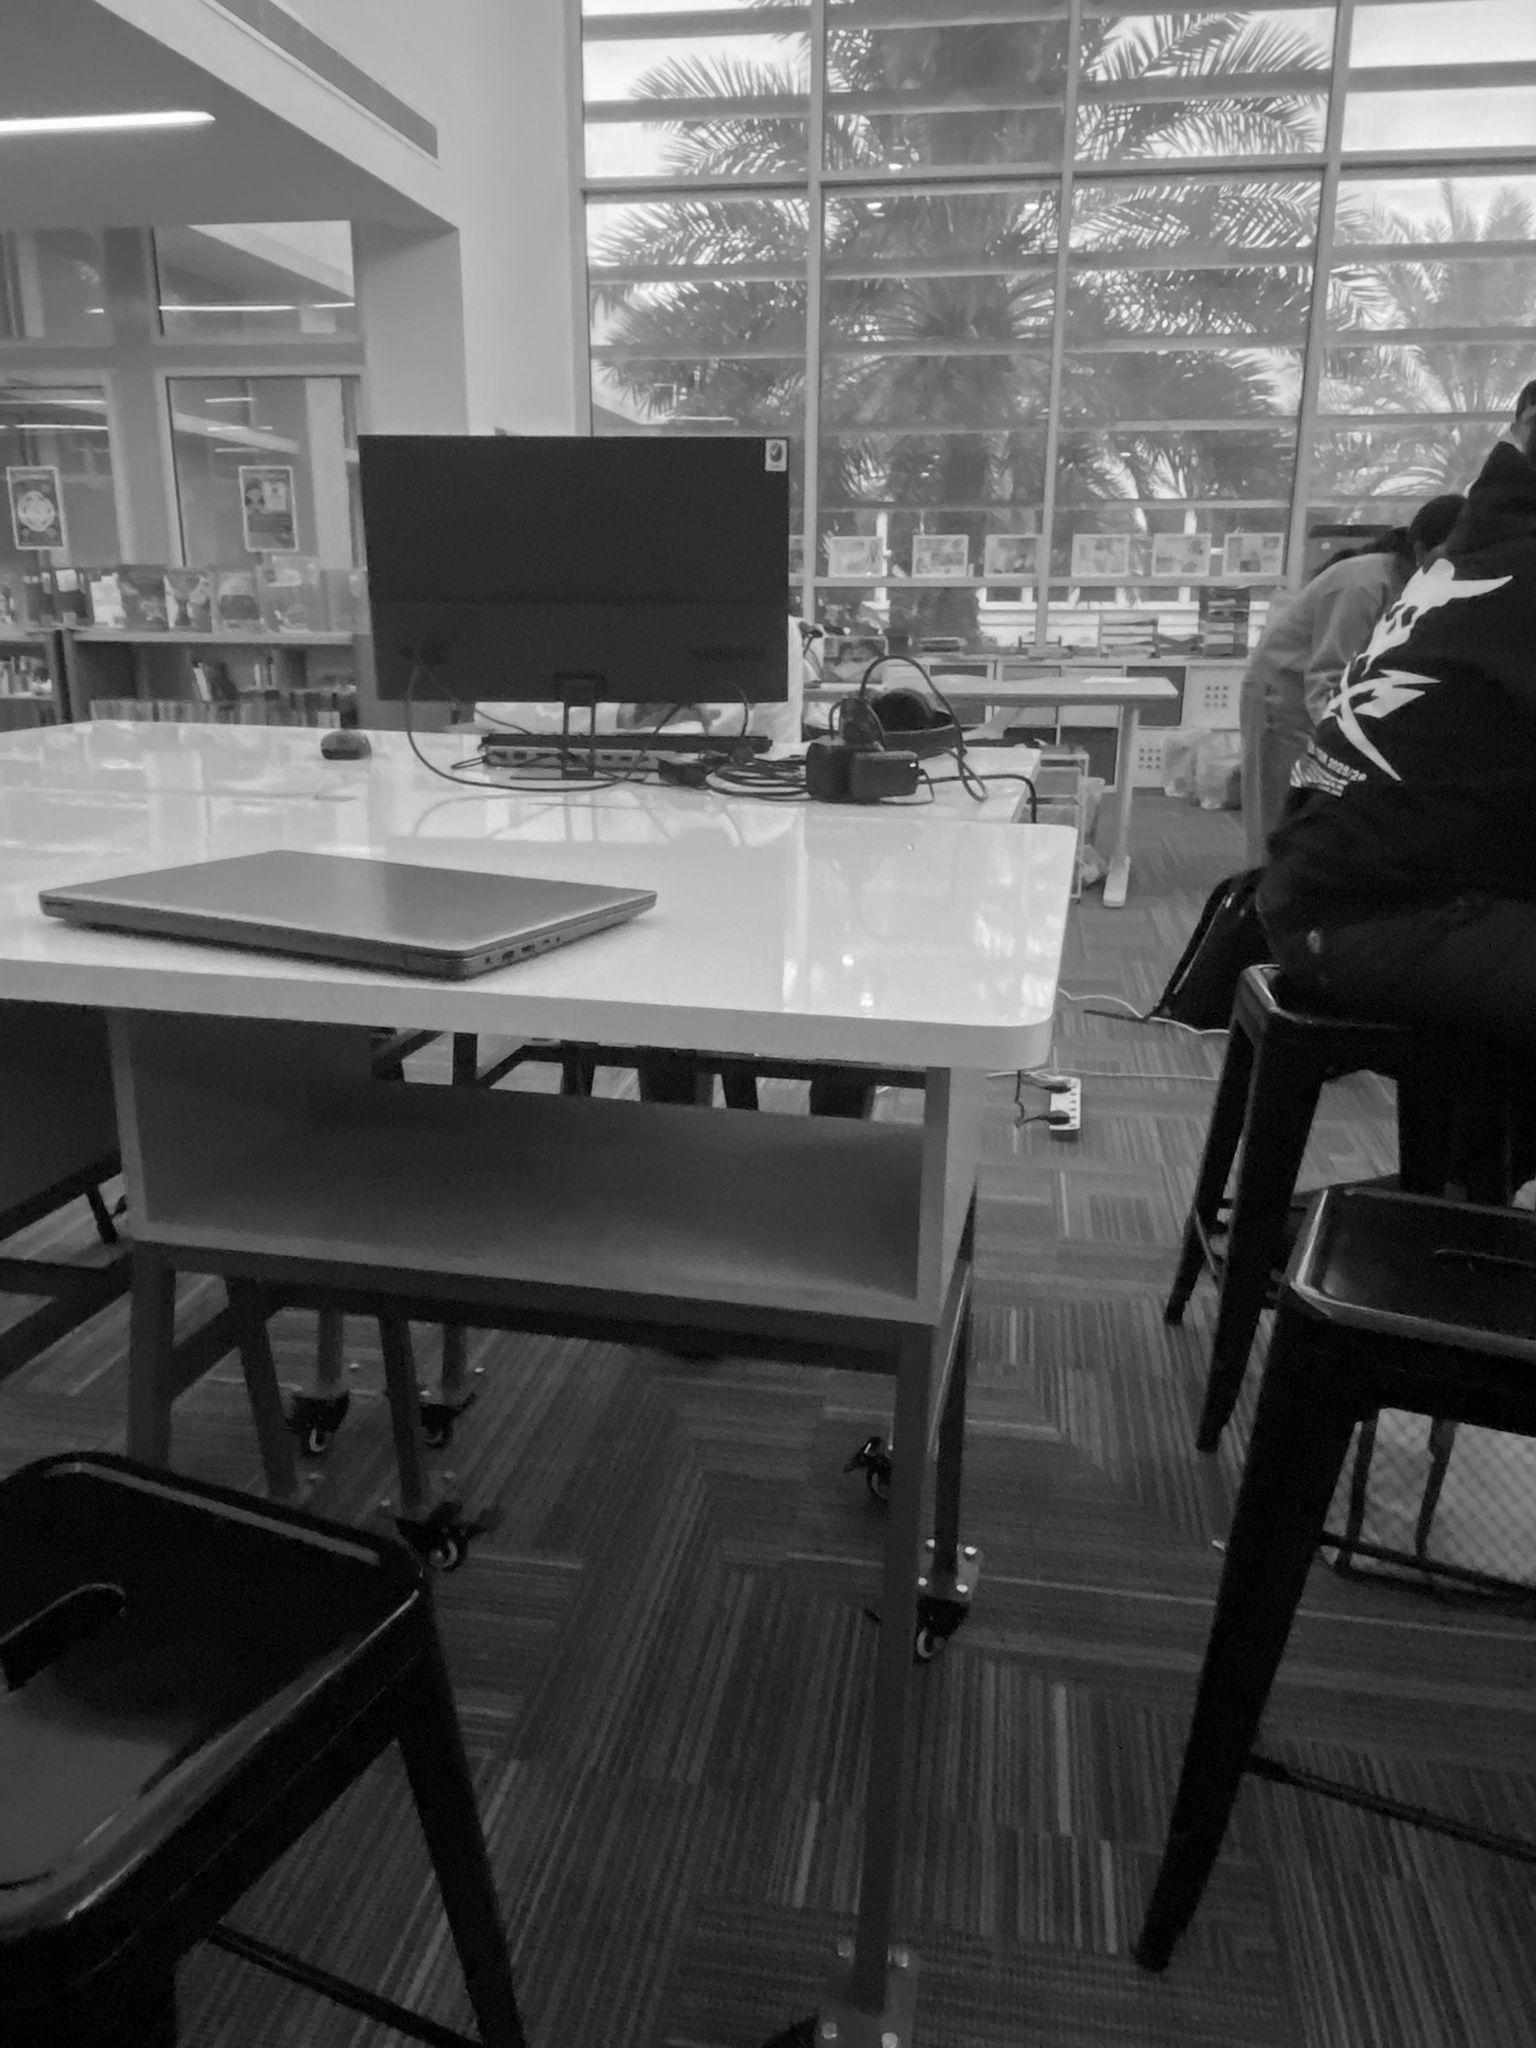Chair: (1134, 1187, 1534, 1971), (0, 1455, 526, 2046)
Table: (0, 721, 1083, 2046), (950, 661, 1178, 906)
